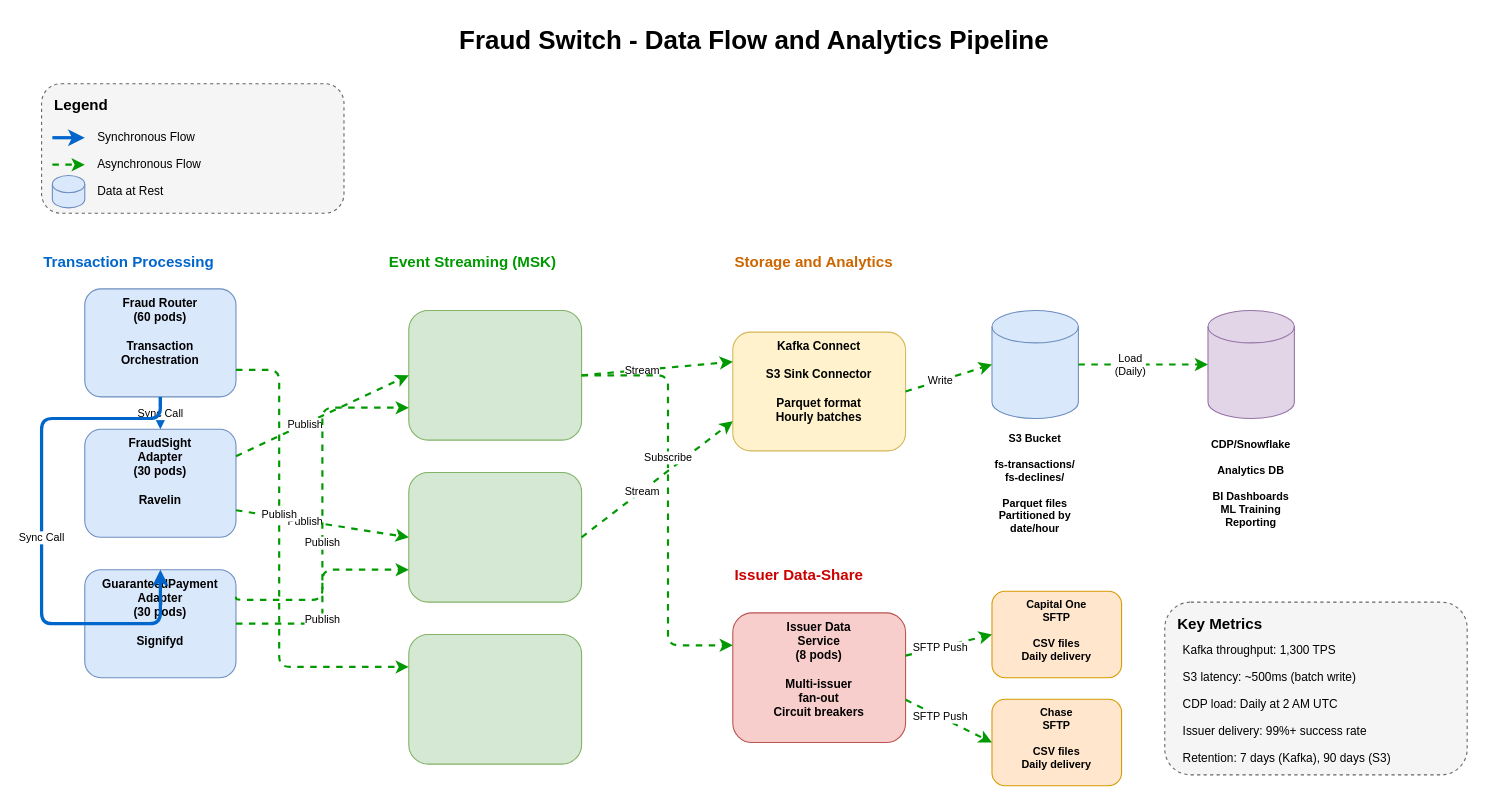
Image size: 1486x805. Some labels were removed from this diagram. Here are the shapes that lost their labels. From the top down, the centre of each, then its label:
At point 495,374: "fs.transactions All successful fraud evaluations 25 partitions 7-day retention".
At point 495,536: "fs.declines Declined/Flagged transactions 25 partitions 7-day retention".
At point 495,698: "async.events Async enrichment requests 10 partitions 7-day retention".
